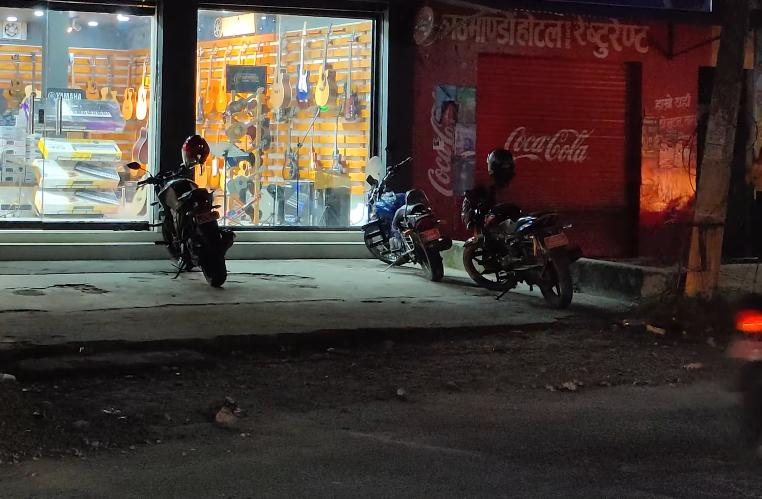bike: (456, 155, 584, 309), (124, 149, 246, 289), (362, 161, 449, 290)
